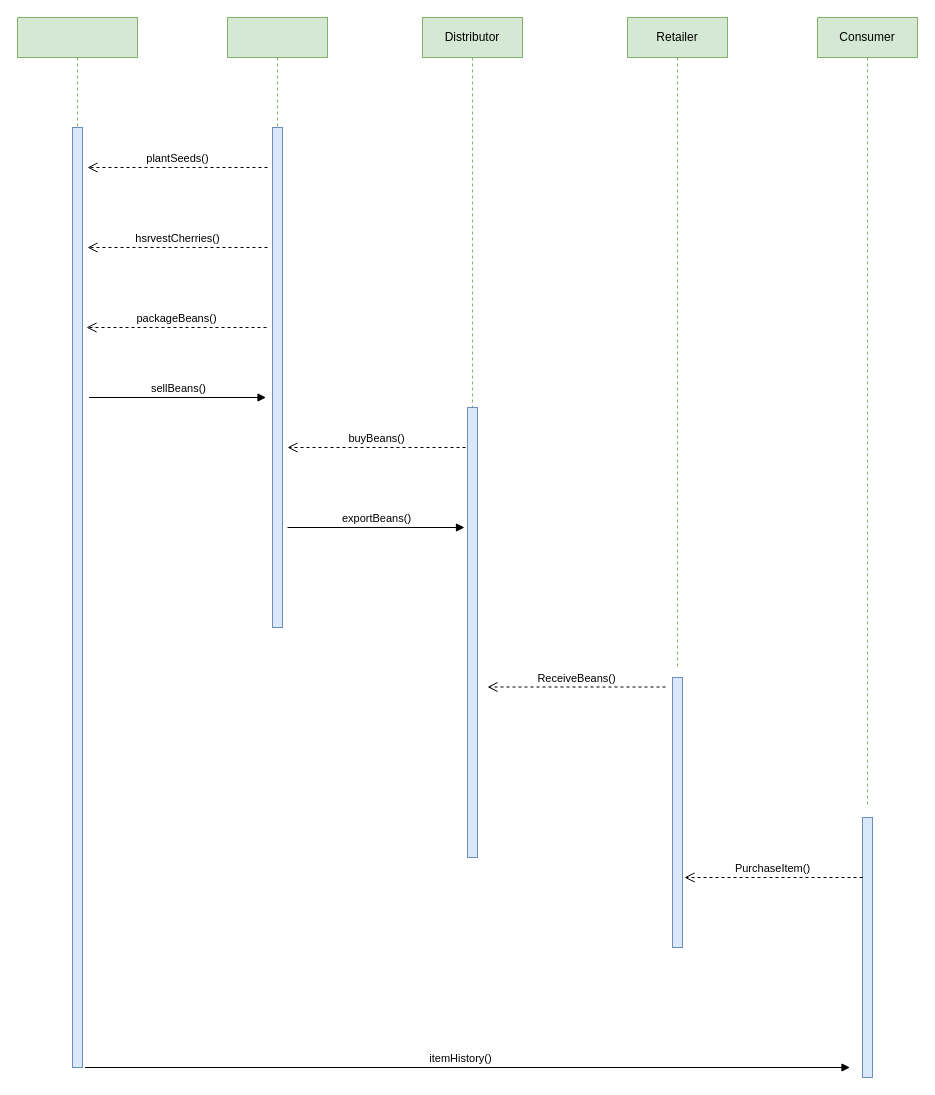
Some shapes in this 935 by 1095 pixel diagram are drawn without their labels. The shapes that lost their labels are listed below. From the top down, each one's box as (x1, y1, x2, y2) in pixels, then its label:
(16, 16, 138, 128): Coffee
(226, 16, 328, 128): Farmer
